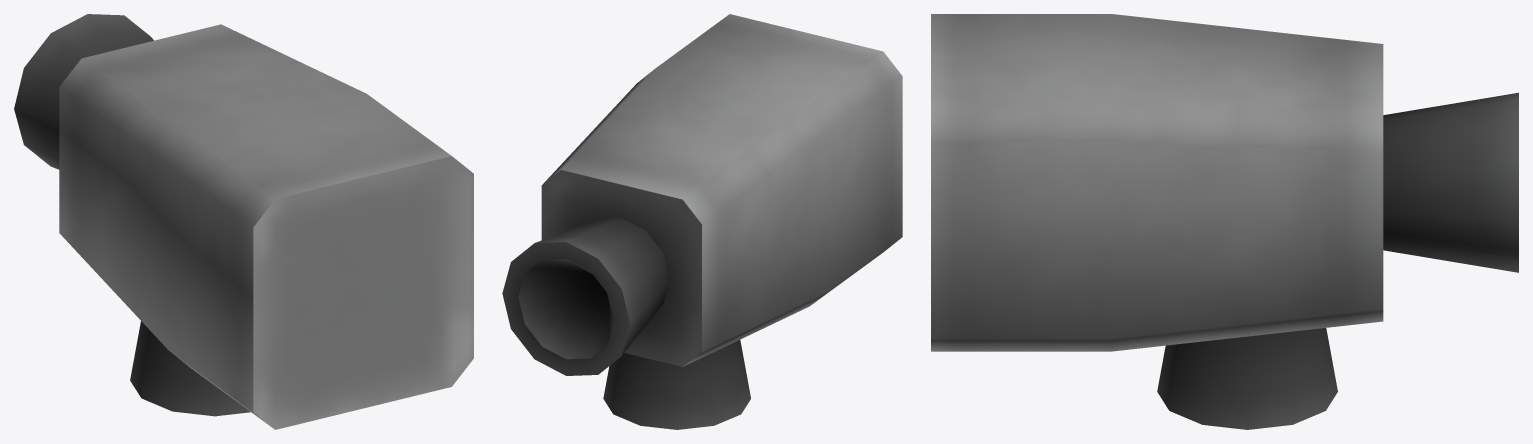
File: octans_rcs_srf_1_extended.obj
3 renders of one model, left to right at view 1: azimuth 30°, elevation 25°; view 2: azimuth 150°, elevation 25°; view 3: azimuth 270°, elevation 25°, orthographic. The views are drawn at different scales.
Parts seen in each view (by area): view 1: mesh; view 2: mesh; view 3: mesh.
Boxes of the visible parts, x1,y1,x2,y2 form: mesh: (14, 14, 473, 429); mesh: (502, 14, 902, 429); mesh: (931, 14, 1518, 429).
Bounding box in the file's own units: 0.075 × 0.1013 × 0.1625.
Materials: 1 (1 with a texture image).
